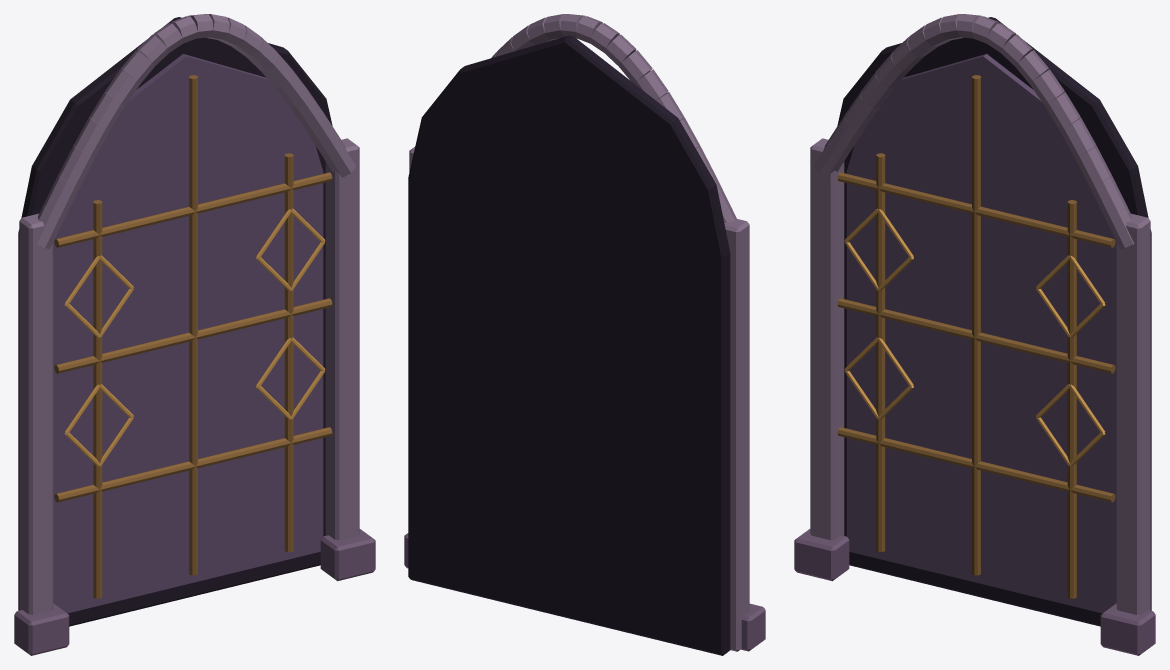
The model's file is SM_Stage3_GothicWindow.fbx.
3 renders of one model, left to right at view 1: azimuth 30°, elevation 25°; view 2: azimuth 150°, elevation 25°; view 3: azimuth 330°, elevation 25°, orthographic.
Parts seen in each view (by area): view 1: SM_Stage3_GothicWindow; view 2: SM_Stage3_GothicWindow; view 3: SM_Stage3_GothicWindow.
Boxes of the visible parts, x1=… form: SM_Stage3_GothicWindow: x1=14, y1=14, x2=375, y2=655; SM_Stage3_GothicWindow: x1=404, y1=14, x2=765, y2=655; SM_Stage3_GothicWindow: x1=794, y1=14, x2=1155, y2=655.
Bounding box in the file's own units: 254 × 36 × 413.
